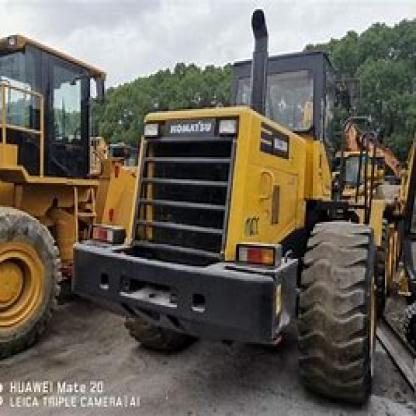bull_dozer/loader/grader: (67, 9, 406, 400)
